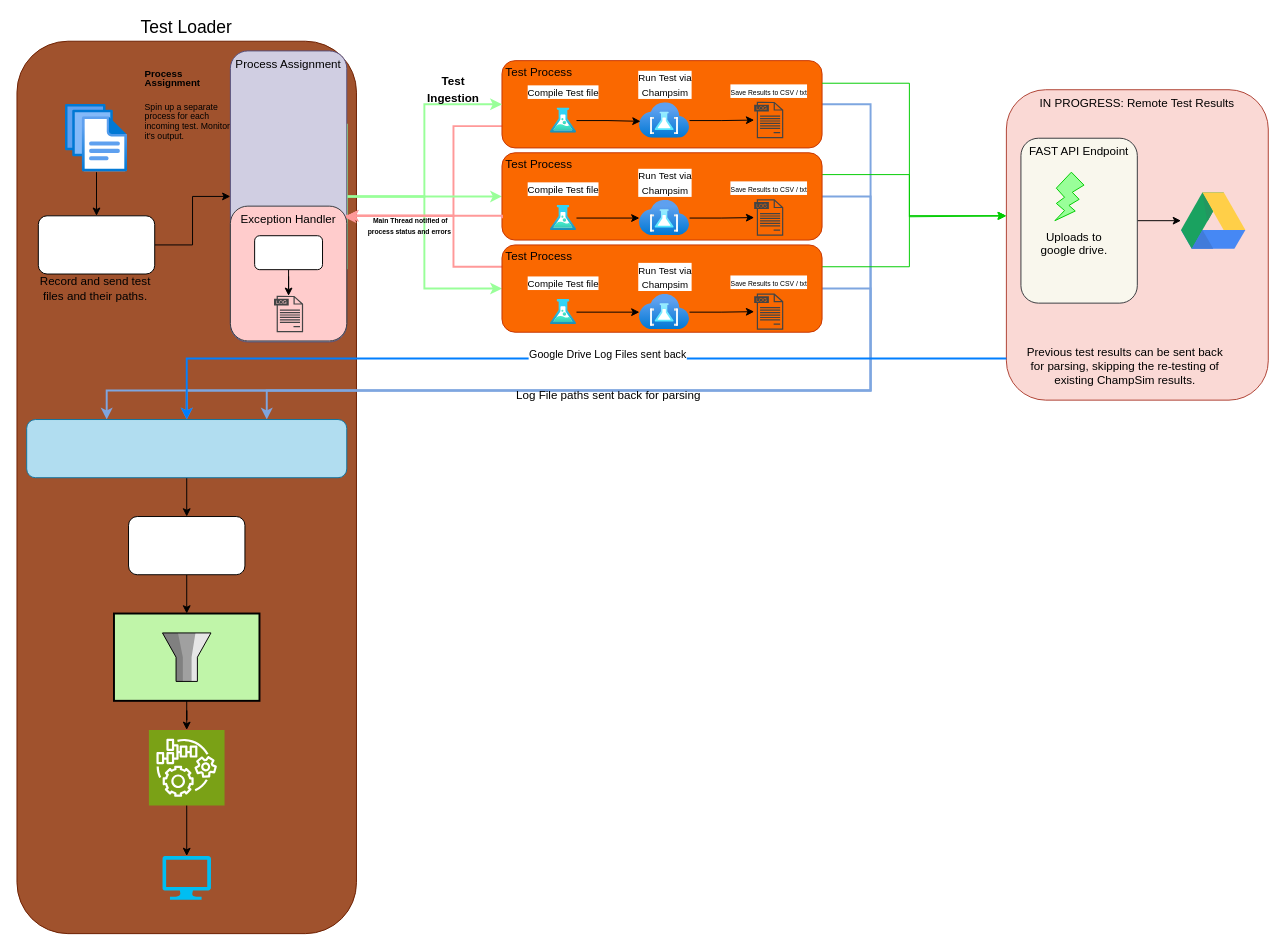
Some shapes in this 1285 by 951 pixel diagram are drawn without their labels. The centre of each missing label's shape, as x and y in pixels:
Display: point (186, 877)
Filter results by Cache size, .....: point (186, 656)
Generate graphs: point (186, 767)
Parse CSV / Log: point (186, 545)
Read Test files: point (96, 244)
Result Ingestion: point (186, 448)
Stop Process: point (288, 252)
Test Files: point (96, 138)
Write to Error log: point (288, 313)
